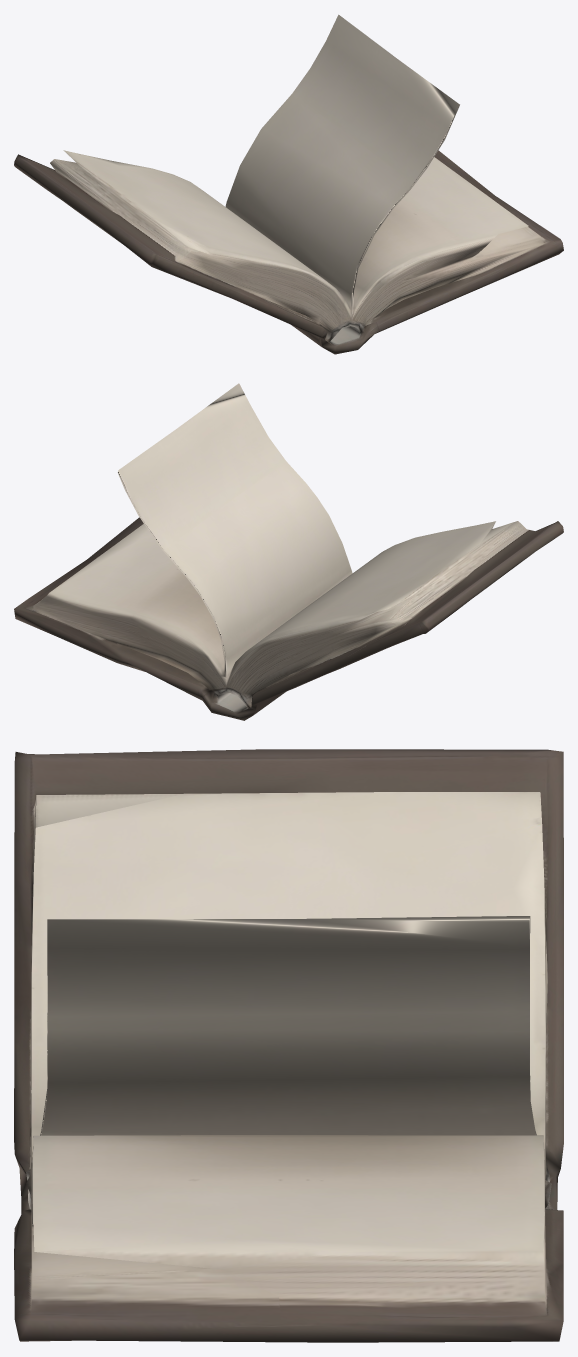
File: ENV_SMALL_PROPS_BOOK_OPEN_v001_RAW.glb.glb
3 renders of one model, top to bottom at view 1: azimuth 30°, elevation 25°; view 2: azimuth 150°, elevation 25°; view 3: azimuth 270°, elevation 25°, orthographic. The views are drawn at different scales.
Visible parts, largest first — view 1: tripo_node_3066f116-3aae-42ff-87bf-0cae62f61eb9; view 2: tripo_node_3066f116-3aae-42ff-87bf-0cae62f61eb9; view 3: tripo_node_3066f116-3aae-42ff-87bf-0cae62f61eb9.
Part boxes in pixels (left/top/right/bottom): tripo_node_3066f116-3aae-42ff-87bf-0cae62f61eb9: left=14, top=14, right=563, bottom=354; tripo_node_3066f116-3aae-42ff-87bf-0cae62f61eb9: left=14, top=383, right=563, bottom=720; tripo_node_3066f116-3aae-42ff-87bf-0cae62f61eb9: left=14, top=749, right=563, bottom=1342.
Size of the model in its own units: 0.9791 by 0.4873 by 0.5631.
1 material, 1 textured.
